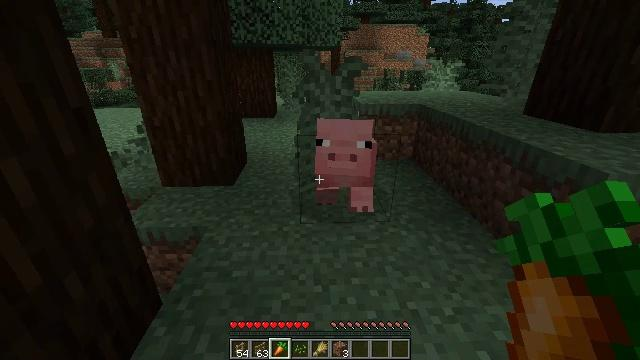pig: (314, 117, 374, 212)
